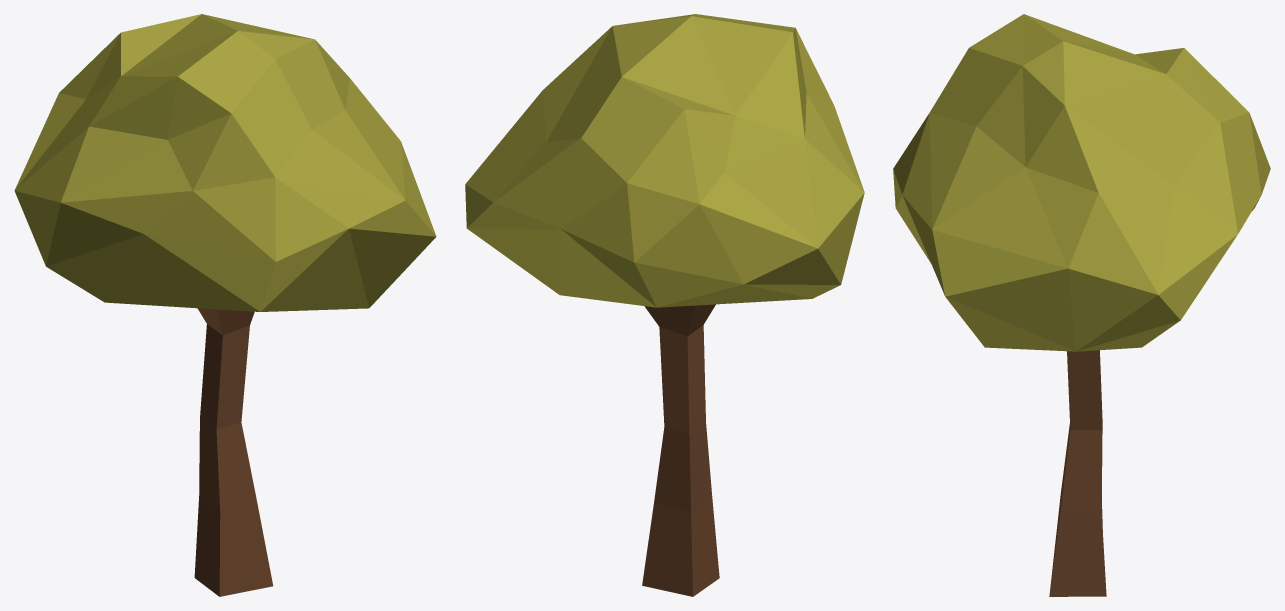
Rendered from Tree_28_Yellow.fbx.
3 views of the same model, side by side, from view 1: azimuth 30°, elevation 25°; view 2: azimuth 150°, elevation 25°; view 3: azimuth 270°, elevation 25° (orthographic). The views are drawn at different scales.
Parts seen in each view (by area): view 1: Tree_28_Yellow_Part_1, Tree_28_Yellow_Part_2; view 2: Tree_28_Yellow_Part_1, Tree_28_Yellow_Part_2; view 3: Tree_28_Yellow_Part_1, Tree_28_Yellow_Part_2.
Part boxes in pixels (x1,y1,x2,y2): Tree_28_Yellow_Part_1: [14, 14, 436, 311]; Tree_28_Yellow_Part_2: [194, 308, 273, 596]; Tree_28_Yellow_Part_1: [465, 14, 864, 307]; Tree_28_Yellow_Part_2: [642, 304, 719, 596]; Tree_28_Yellow_Part_1: [893, 14, 1270, 351]; Tree_28_Yellow_Part_2: [1049, 350, 1106, 596].
Bounding box in the file's own units: 529 × 802 × 506.
